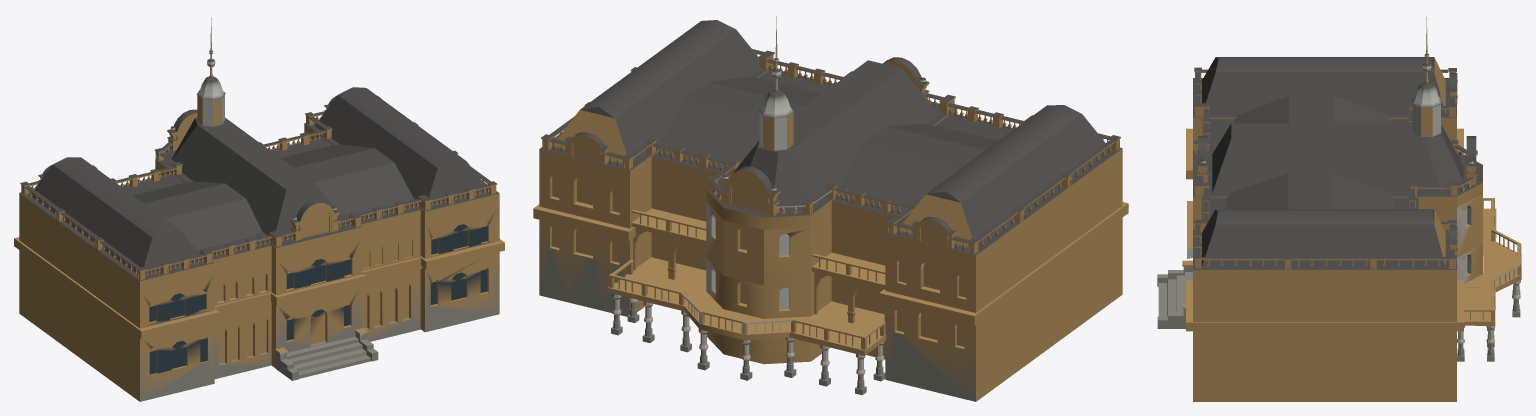
The picture shows the model from 3 angles, left to right: view 1: azimuth 30°, elevation 25°; view 2: azimuth 150°, elevation 25°; view 3: azimuth 270°, elevation 25°; orthographic projection. The views are drawn at different scales.
Visible parts, largest first — view 1: polySurface26:PIV; view 2: polySurface26:PIV; view 3: polySurface26:PIV.
Part boxes in pixels (<box>): polySurface26:PIV: <box>14,17,504,401</box>; polySurface26:PIV: <box>533,16,1128,401</box>; polySurface26:PIV: <box>1157,17,1521,401</box>.
Bounding box in the file's own units: 31.69 × 22.2 × 25.12.
